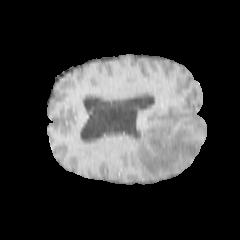glioma: (133, 110, 200, 177)
